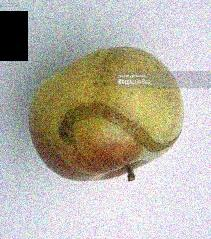rotten apple: (25, 45, 190, 187)
